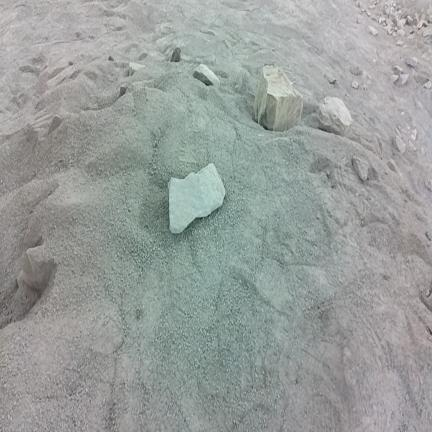Rock: (168, 164, 225, 233), (254, 66, 303, 131), (318, 97, 352, 136), (194, 64, 219, 88), (352, 156, 369, 180), (27, 127, 38, 152), (47, 116, 62, 134), (361, 138, 377, 154), (129, 63, 145, 76), (393, 136, 405, 153), (171, 47, 180, 62), (423, 27, 431, 43), (324, 74, 336, 84), (366, 26, 378, 36), (388, 159, 397, 172), (350, 66, 362, 75), (407, 57, 417, 67), (417, 20, 427, 29), (425, 179, 432, 191), (394, 65, 403, 74), (401, 74, 409, 84), (397, 19, 404, 30), (411, 129, 417, 141), (409, 140, 416, 150), (406, 16, 413, 26), (385, 24, 392, 34), (395, 128, 402, 138), (391, 75, 399, 83), (424, 81, 431, 89), (352, 81, 359, 89), (397, 29, 404, 36), (397, 40, 404, 46), (421, 147, 425, 155), (361, 84, 366, 90), (108, 56, 114, 61)
